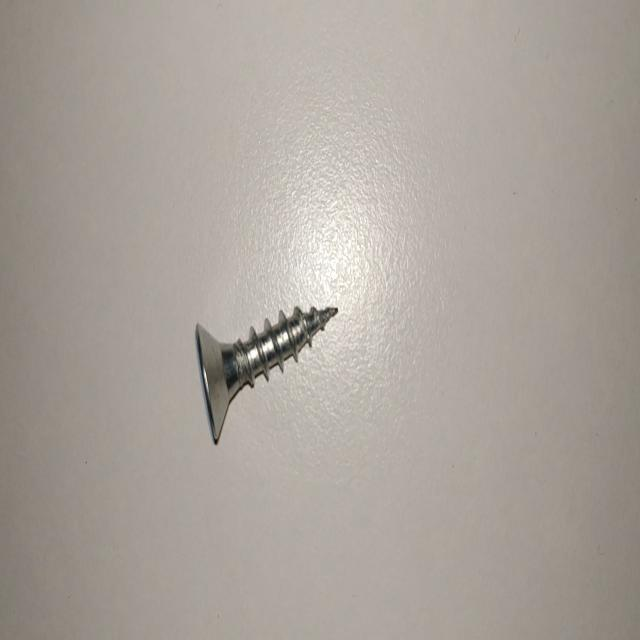Screw: (195, 306, 338, 443)
